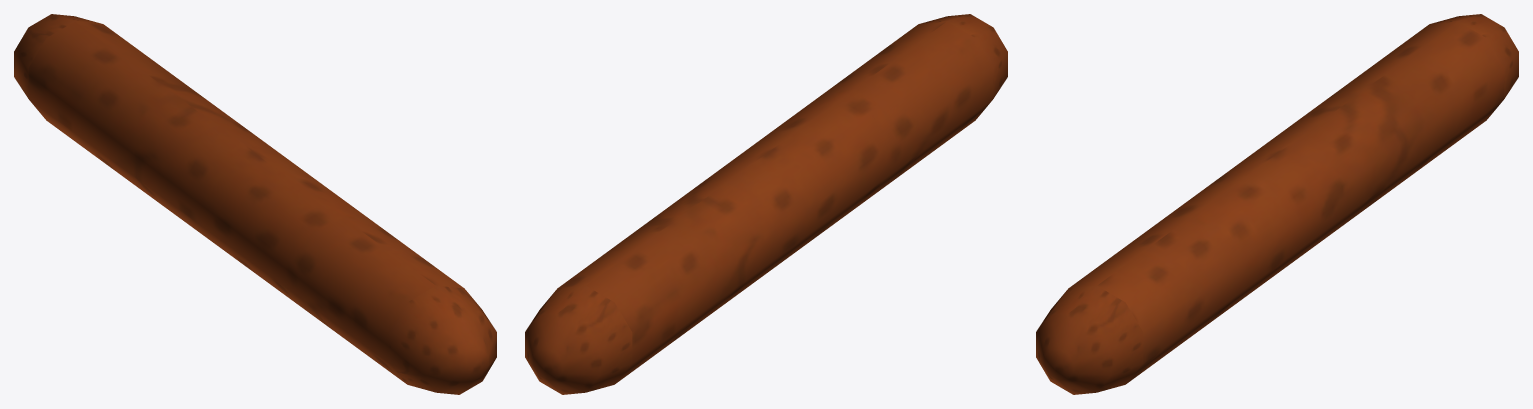
The model's file is DoubleCooked_FricadelleCooked.fbx.
The picture shows the model from 3 angles, left to right: view 1: azimuth 30°, elevation 25°; view 2: azimuth 150°, elevation 25°; view 3: azimuth 330°, elevation 25°; orthographic projection.
Parts seen in each view (by area): view 1: DoubleCooked_FricadelleCooked; view 2: DoubleCooked_FricadelleCooked; view 3: DoubleCooked_FricadelleCooked.
Part boxes in pixels (x1,y1,x2,y2): DoubleCooked_FricadelleCooked: [14, 14, 496, 394]; DoubleCooked_FricadelleCooked: [525, 14, 1007, 394]; DoubleCooked_FricadelleCooked: [1036, 14, 1518, 394].
Bounding box in the file's own units: 2.68 × 2.82 × 22.13.
Materials: 1 (1 with a texture image).
